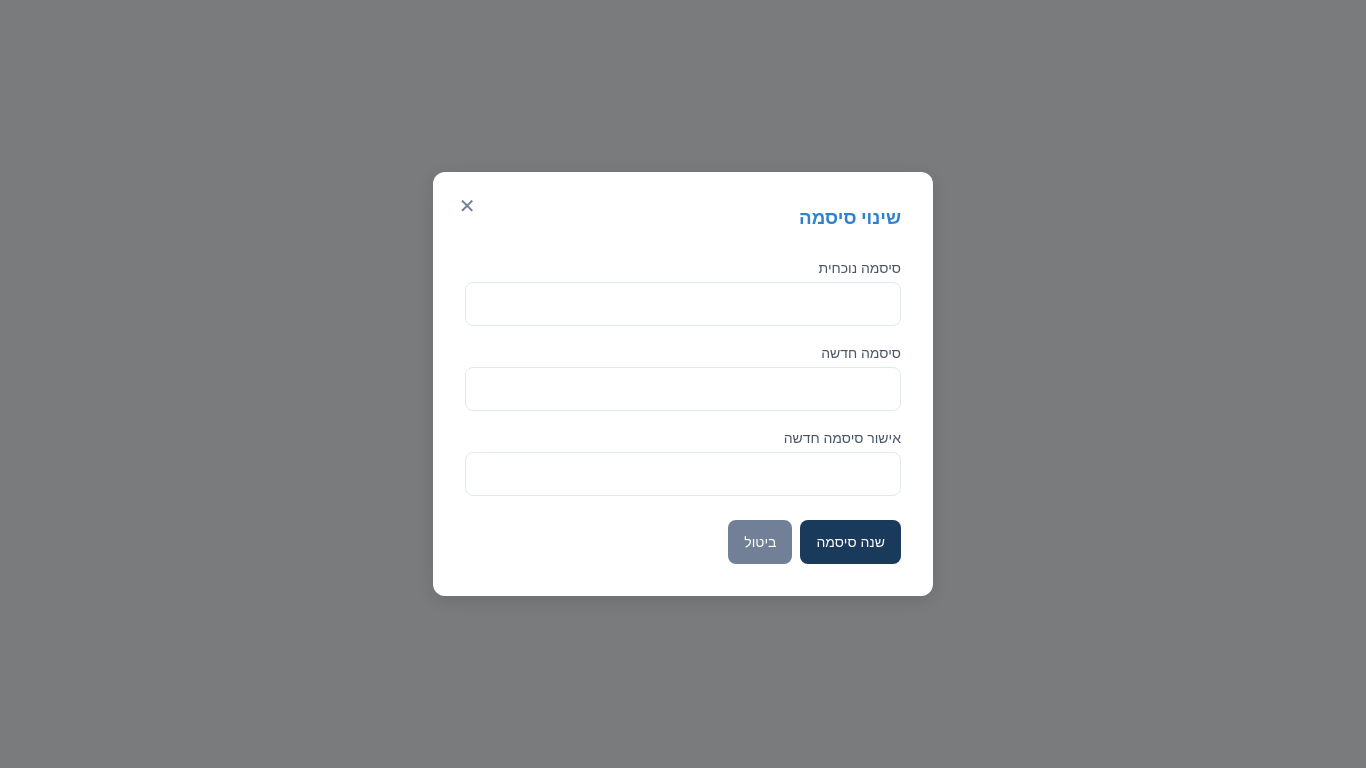
Test: ChangePasswordModal › should show error when passwords do not match
Type "current123" into the password field labelled "סיסמה נוכחית".
click(683, 304); type("current123")  # box [465, 282, 901, 326]
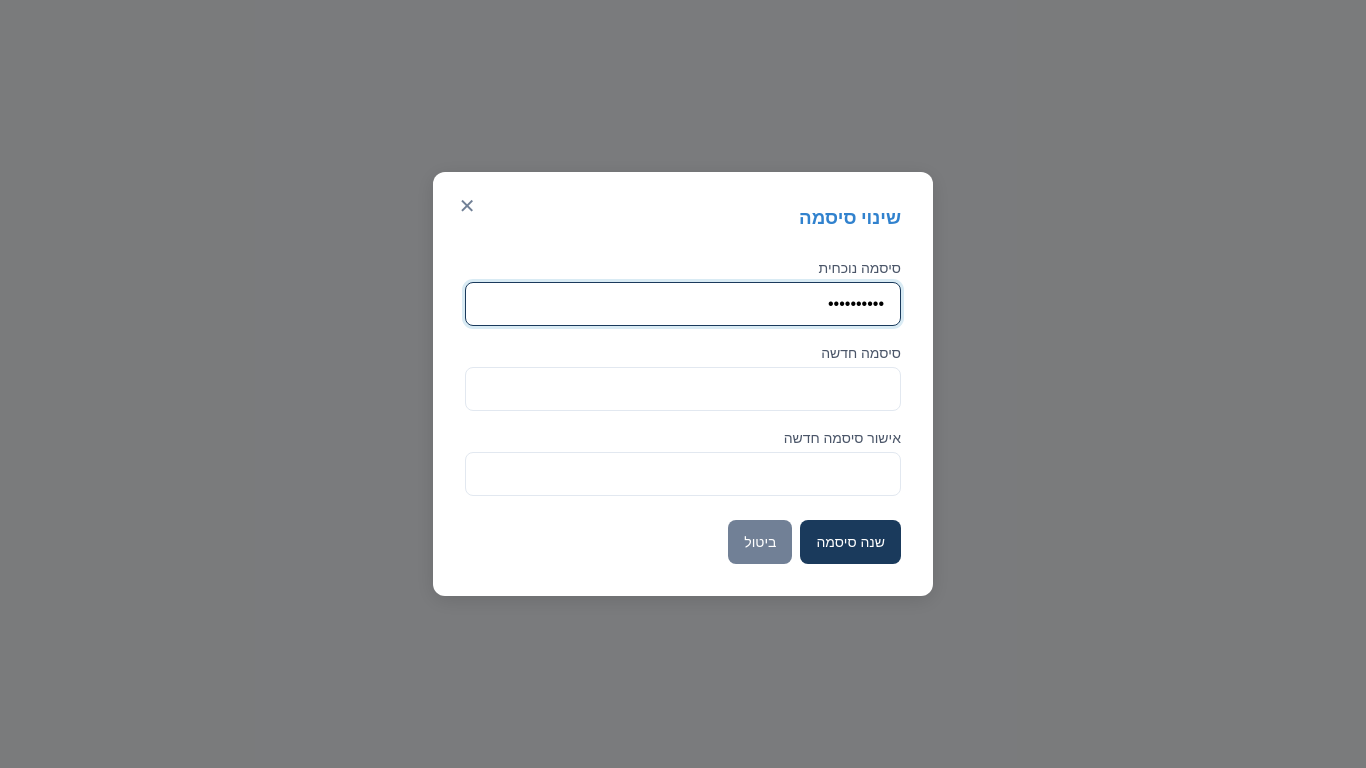
Type "newpass123" into the password field labelled "סיסמה חדשה".
click(683, 388); type("newpass123")  # box [465, 366, 901, 410]
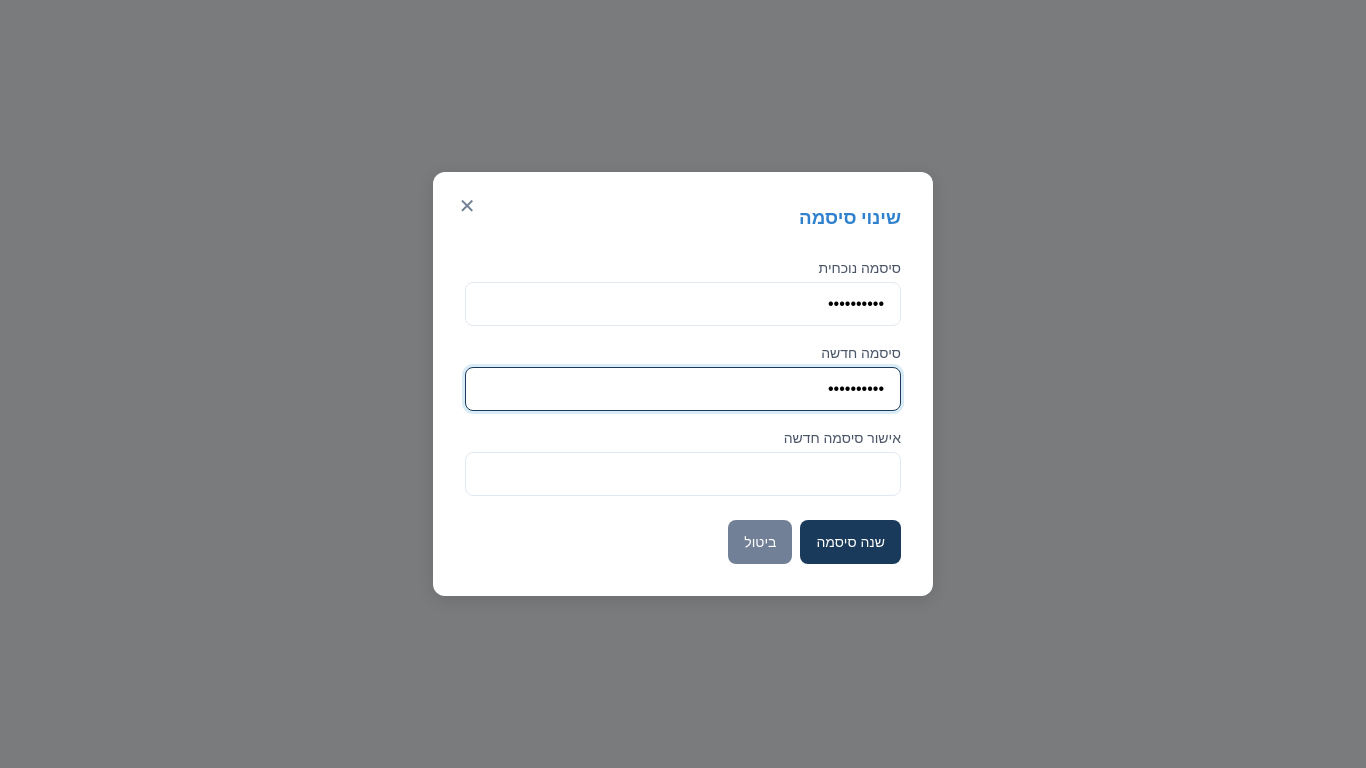
Type "different123" into the password field labelled "אישור סיסמה חדשה".
click(683, 474); type("different123")  # box [465, 452, 901, 496]
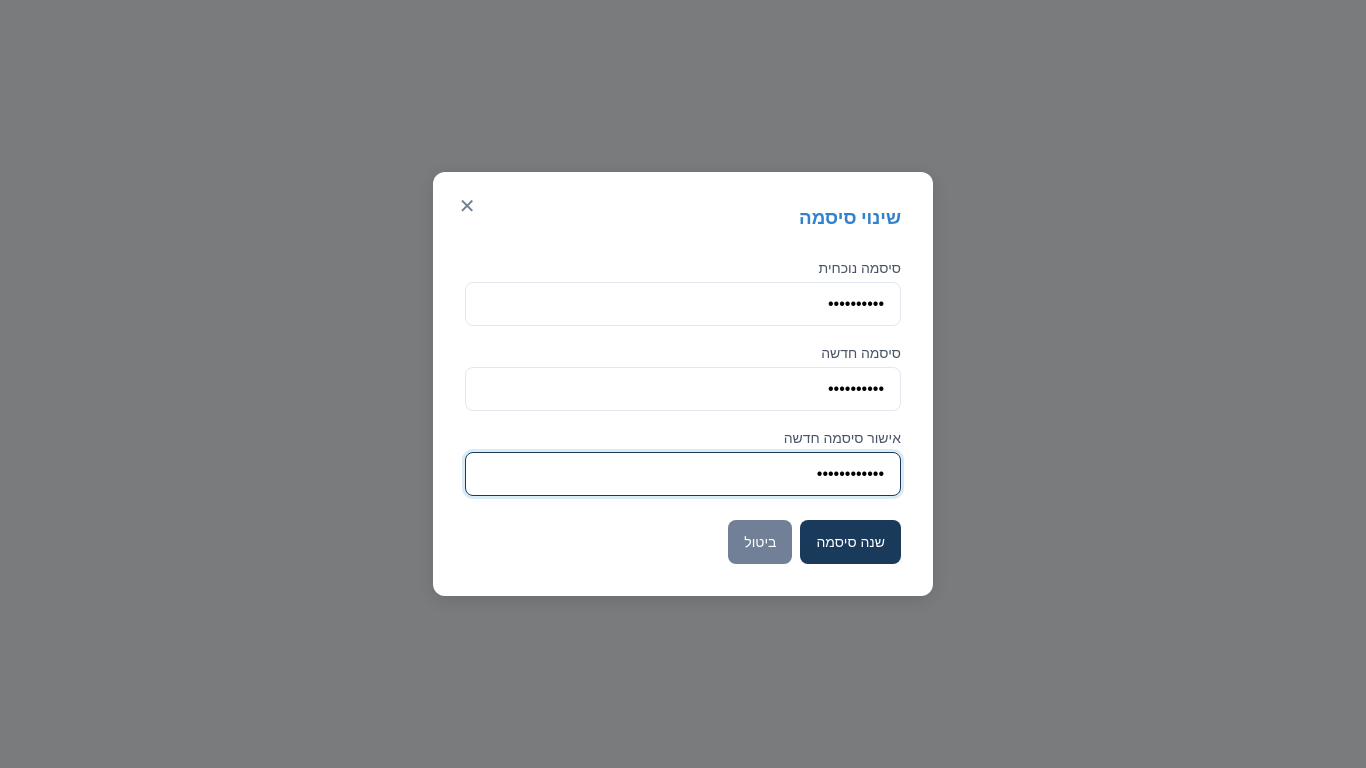
Click the button "שנה סיסמה".
click(851, 542)  # box [800, 520, 901, 564]
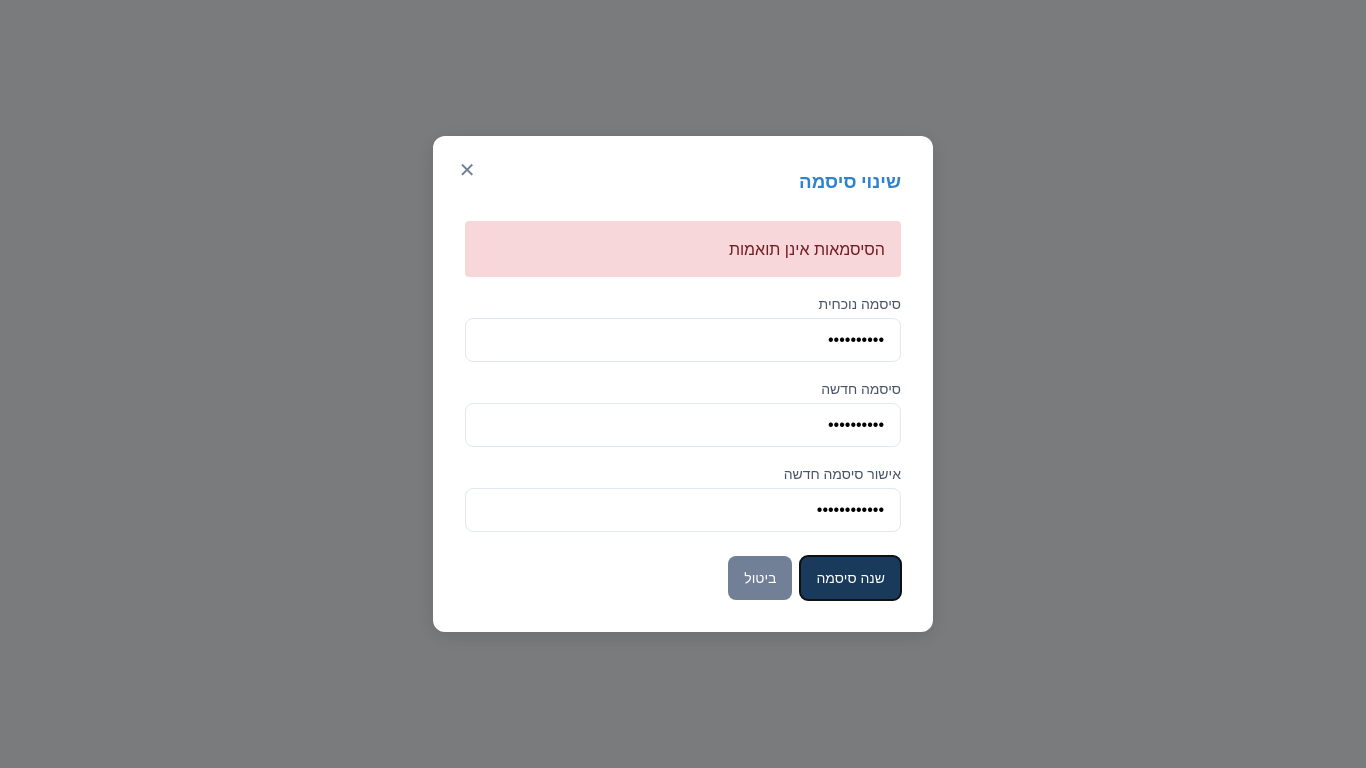
Now the text "הסיסמאות אינן תואמות" is shown, box [465, 220, 901, 276]
